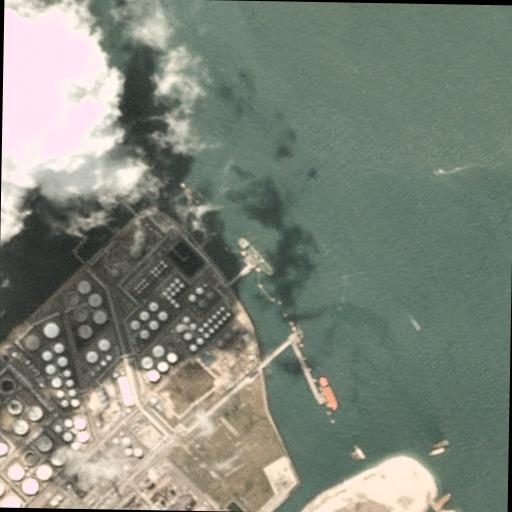ship: (238, 236, 274, 276), (318, 376, 342, 410), (428, 448, 444, 456)
